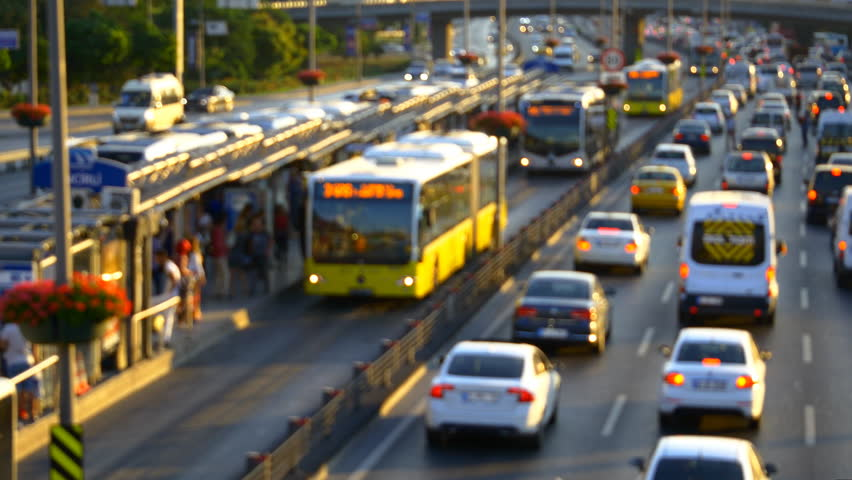bus: (302, 129, 508, 308), (514, 77, 606, 173), (619, 51, 684, 120)
car: (657, 185, 791, 317), (417, 335, 565, 452), (645, 317, 781, 426), (627, 424, 780, 475), (511, 261, 606, 339), (112, 58, 185, 138), (562, 211, 657, 271), (619, 163, 693, 211), (716, 145, 778, 195), (808, 162, 842, 219), (652, 142, 699, 179)
